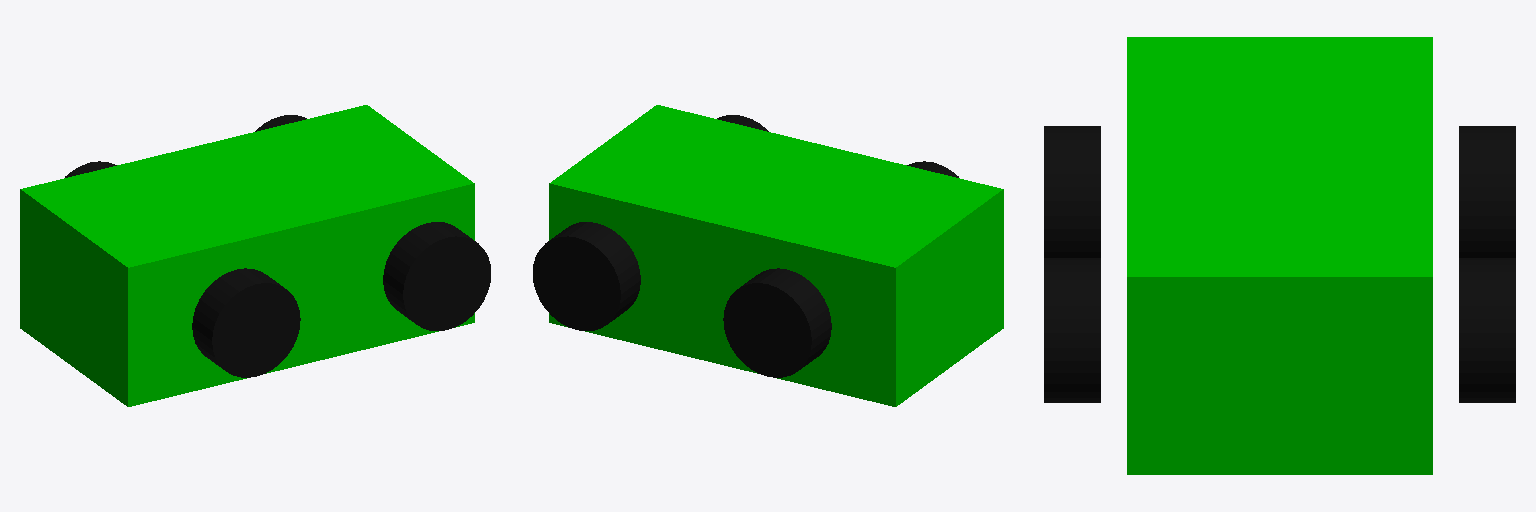
URDF robot description (wheeltec_v550_ackermann):
<?xml version="1.0" ?>
<robot name="wheeltec_v550_ackermann">
  <material name="dark">
    <color rgba="0.1 0.1 0.1 1.0"/>
  </material>
  <material name="green">
    <color rgba="0.0 0.8 0.0 1.0"/>
  </material>
  <material name="red">
    <color rgba="0.8 0.0 0.0 1.0"/>
  </material>
  <link name="base_footprint">
    <visual>
      <origin xyz="0 0 0" rpy="0 0 0"/>
      <geometry>
        <box size="0.001 0.001 0.001"/>
      </geometry>
    </visual>
  </link>
  <link name="base_link">
    <inertial>
      <origin xyz="-0.011 0 0.041" rpy="0 0 0"/>
      <mass value="5.0"/>
      <inertia ixx="0.05" ixy="0.0" ixz="0.0" iyy="0.08" iyz="0.0" izz="0.10"/>
    </inertial>
    <visual>
      <origin xyz="0 0 0.03" rpy="0 0 0"/>
      <geometry>
        <box size="0.26 0.14 0.10"/>
      </geometry>
      <material name="green"/>
    </visual>
    <collision>
      <origin xyz="0.02 0 0.08" rpy="0 0 0"/>
      <geometry>
        <box size="0.26 0.14 0.10"/>
      </geometry>
    </collision>
  </link>
  <link name="rb_wheel_link">
    <inertial>
      <mass value="0.2"/>
      <inertia ixx="0.0001" ixy="0.0" ixz="0.0" iyy="0.0002" iyz="0.0" izz="0.0001"/>
    </inertial>
    <visual>
      <origin xyz="0 0 0" rpy="1.570796 0 0"/>
      <geometry>
        <cylinder radius="0.0332" length="0.026"/>
      </geometry>
      <material name="dark"/>
    </visual>
    <collision>
      <origin xyz="0 0 0" rpy="1.570796 0 0"/>
      <geometry>
        <cylinder radius="0.0332" length="0.026"/>
      </geometry>
    </collision>
  </link>
  <link name="lb_wheel_link">
    <inertial>
      <mass value="0.2"/>
      <inertia ixx="0.0001" ixy="0.0" ixz="0.0" iyy="0.0002" iyz="0.0" izz="0.0001"/>
    </inertial>
    <visual>
      <origin xyz="0 0 0" rpy="1.570796 0 0"/>
      <geometry>
        <cylinder radius="0.0332" length="0.026"/>
      </geometry>
      <material name="dark"/>
    </visual>
    <collision>
      <origin xyz="0 0 0" rpy="1.570796 0 0"/>
      <geometry>
        <cylinder radius="0.0332" length="0.026"/>
      </geometry>
    </collision>
  </link>
  <link name="rf_steer_link">
    <inertial>
      <mass value="0.10"/>
      <inertia ixx="0.00005" ixy="0.0" ixz="0.0" iyy="0.00005" iyz="0.0" izz="0.00005"/>
    </inertial>
    <visual>
      <origin xyz="0 0 0" rpy="0 0 0"/>
      <geometry>
        <box size="0.02 0.02 0.02"/>
      </geometry>
      <material name="red"/>
    </visual>
  </link>
  <link name="rf_wheel_link">
    <inertial>
      <mass value="0.2"/>
      <inertia ixx="0.0001" ixy="0.0" ixz="0.0" iyy="0.0002" iyz="0.0" izz="0.0001"/>
    </inertial>
    <visual>
      <origin xyz="0 0 0" rpy="1.570796 0 0"/>
      <geometry>
        <cylinder radius="0.0332" length="0.026"/>
      </geometry>
      <material name="dark"/>
    </visual>
    <collision>
      <origin xyz="0 0 0" rpy="1.570796 0 0"/>
      <geometry>
        <cylinder radius="0.0332" length="0.026"/>
      </geometry>
    </collision>
  </link>
  <link name="lf_steer_link">
    <inertial>
      <mass value="0.10"/>
      <inertia ixx="0.00005" ixy="0.0" ixz="0.0" iyy="0.00005" iyz="0.0" izz="0.00005"/>
    </inertial>
    <visual>
      <origin xyz="0 0 0" rpy="0 0 0"/>
      <geometry>
        <box size="0.02 0.02 0.02"/>
      </geometry>
      <material name="red"/>
    </visual>
  </link>
  <link name="lf_wheel_link">
    <inertial>
      <mass value="0.2"/>
      <inertia ixx="0.0001" ixy="0.0" ixz="0.0" iyy="0.0002" iyz="0.0" izz="0.0001"/>
    </inertial>
    <visual>
      <origin xyz="0 0 0" rpy="1.570796 0 0"/>
      <geometry>
        <cylinder radius="0.0332" length="0.026"/>
      </geometry>
      <material name="dark"/>
    </visual>
    <collision>
      <origin xyz="0 0 0" rpy="1.570796 0 0"/>
      <geometry>
        <cylinder radius="0.0332" length="0.026"/>
      </geometry>
    </collision>
  </link>
  <joint name="base_joint" type="fixed">
    <parent link="base_footprint"/>
    <child link="base_link"/>
    <origin xyz="0.0000 0.0000 0.0000" rpy="0 0 0"/>
  </joint>
  <joint name="rb_wheel_joint" type="continuous">
    <limit effort="8.0" velocity="45.0"/>
    <dynamics damping="0.08" friction="0.005"/>
    <parent link="base_link"/>
    <child link="rb_wheel_link"/>
    <origin xyz="-0.05574 -0.09500 0.03320" rpy="0 0 0"/>
    <axis xyz="0 1 0"/>
  </joint>
  <joint name="lb_wheel_joint" type="continuous">
    <limit effort="8.0" velocity="45.0"/>
    <dynamics damping="0.08" friction="0.005"/>
    <parent link="base_link"/>
    <child link="lb_wheel_link"/>
    <origin xyz="-0.05574 0.09500 0.03320" rpy="0 0 0"/>
    <axis xyz="0 1 0"/>
  </joint>
  <joint name="rf_steer_joint" type="revolute">
    <limit lower="-0.45" upper="0.45" effort="8.0" velocity="3.0"/>
    <dynamics damping="0.35" friction="0.10"/>
    <parent link="base_link"/>
    <child link="rf_steer_link"/>
    <origin xyz="0.08751 -0.09500 0.03320" rpy="0 0 0"/>
    <!-- Match Gazebo SDF steering convention. -->
    <axis xyz="0 0 -1"/>
  </joint>
  <joint name="rf_wheel_joint" type="continuous">
    <limit effort="1.0" velocity="45.0"/>
    <dynamics damping="0.03" friction="0.001"/>
    <parent link="rf_steer_link"/>
    <child link="rf_wheel_link"/>
    <origin xyz="0.0000 0.0000 0.0000" rpy="0 0 0"/>
    <axis xyz="0 1 0"/>
  </joint>
  <joint name="lf_steer_joint" type="revolute">
    <limit lower="-0.45" upper="0.45" effort="8.0" velocity="3.0"/>
    <dynamics damping="0.35" friction="0.10"/>
    <parent link="base_link"/>
    <child link="lf_steer_link"/>
    <origin xyz="0.08751 0.09500 0.03320" rpy="0 0 0"/>
    <!-- Match Gazebo SDF steering convention. -->
    <axis xyz="0 0 -1"/>
  </joint>
  <joint name="lf_wheel_joint" type="continuous">
    <limit effort="1.0" velocity="45.0"/>
    <dynamics damping="0.03" friction="0.001"/>
    <parent link="lf_steer_link"/>
    <child link="lf_wheel_link"/>
    <origin xyz="0.0000 0.0000 0.0000" rpy="0 0 0"/>
    <axis xyz="0 1 0"/>
  </joint>
  <link name="base_scan"/>
  <joint name="scan_joint" type="fixed">
    <parent link="base_link"/>
    <child link="base_scan"/>
    <origin xyz="0.10073 0 0.086" rpy="0 0 0"/>
  </joint>
</robot>

--- Render facts (derived) ---
3 views of the same robot in one strip: view 1: azimuth 30°, elevation 25°; view 2: azimuth 150°, elevation 25°; view 3: azimuth 270°, elevation 25° (orthographic).
Robot: wheeltec_v550_ackermann — 9 links, 8 joints (2 revolute, 4 continuous, 2 fixed); root link base_footprint; default pose: every joint at zero.
Links seen in each view (by area): view 1: base_link, rb_wheel_link, rf_wheel_link; view 2: base_link, lb_wheel_link, lf_wheel_link; view 3: base_link, rf_wheel_link, lf_wheel_link, rb_wheel_link, lb_wheel_link.
Link boxes in pixels (x1,y1,x2,y2): base_link: (20,105,474,406); rb_wheel_link: (192,268,300,377); rf_wheel_link: (383,222,490,330); base_link: (549,105,1003,406); lb_wheel_link: (723,268,831,377); lf_wheel_link: (533,222,640,330); base_link: (1127,37,1432,474); rf_wheel_link: (1044,258,1100,402); lf_wheel_link: (1459,258,1515,402); rb_wheel_link: (1044,126,1100,257); lb_wheel_link: (1459,126,1515,257).
Size in the robot's own frame: 0.26 by 0.216 by 0.1 metres.
Geometry: primitives only (box / cylinder / sphere), no mesh files.
